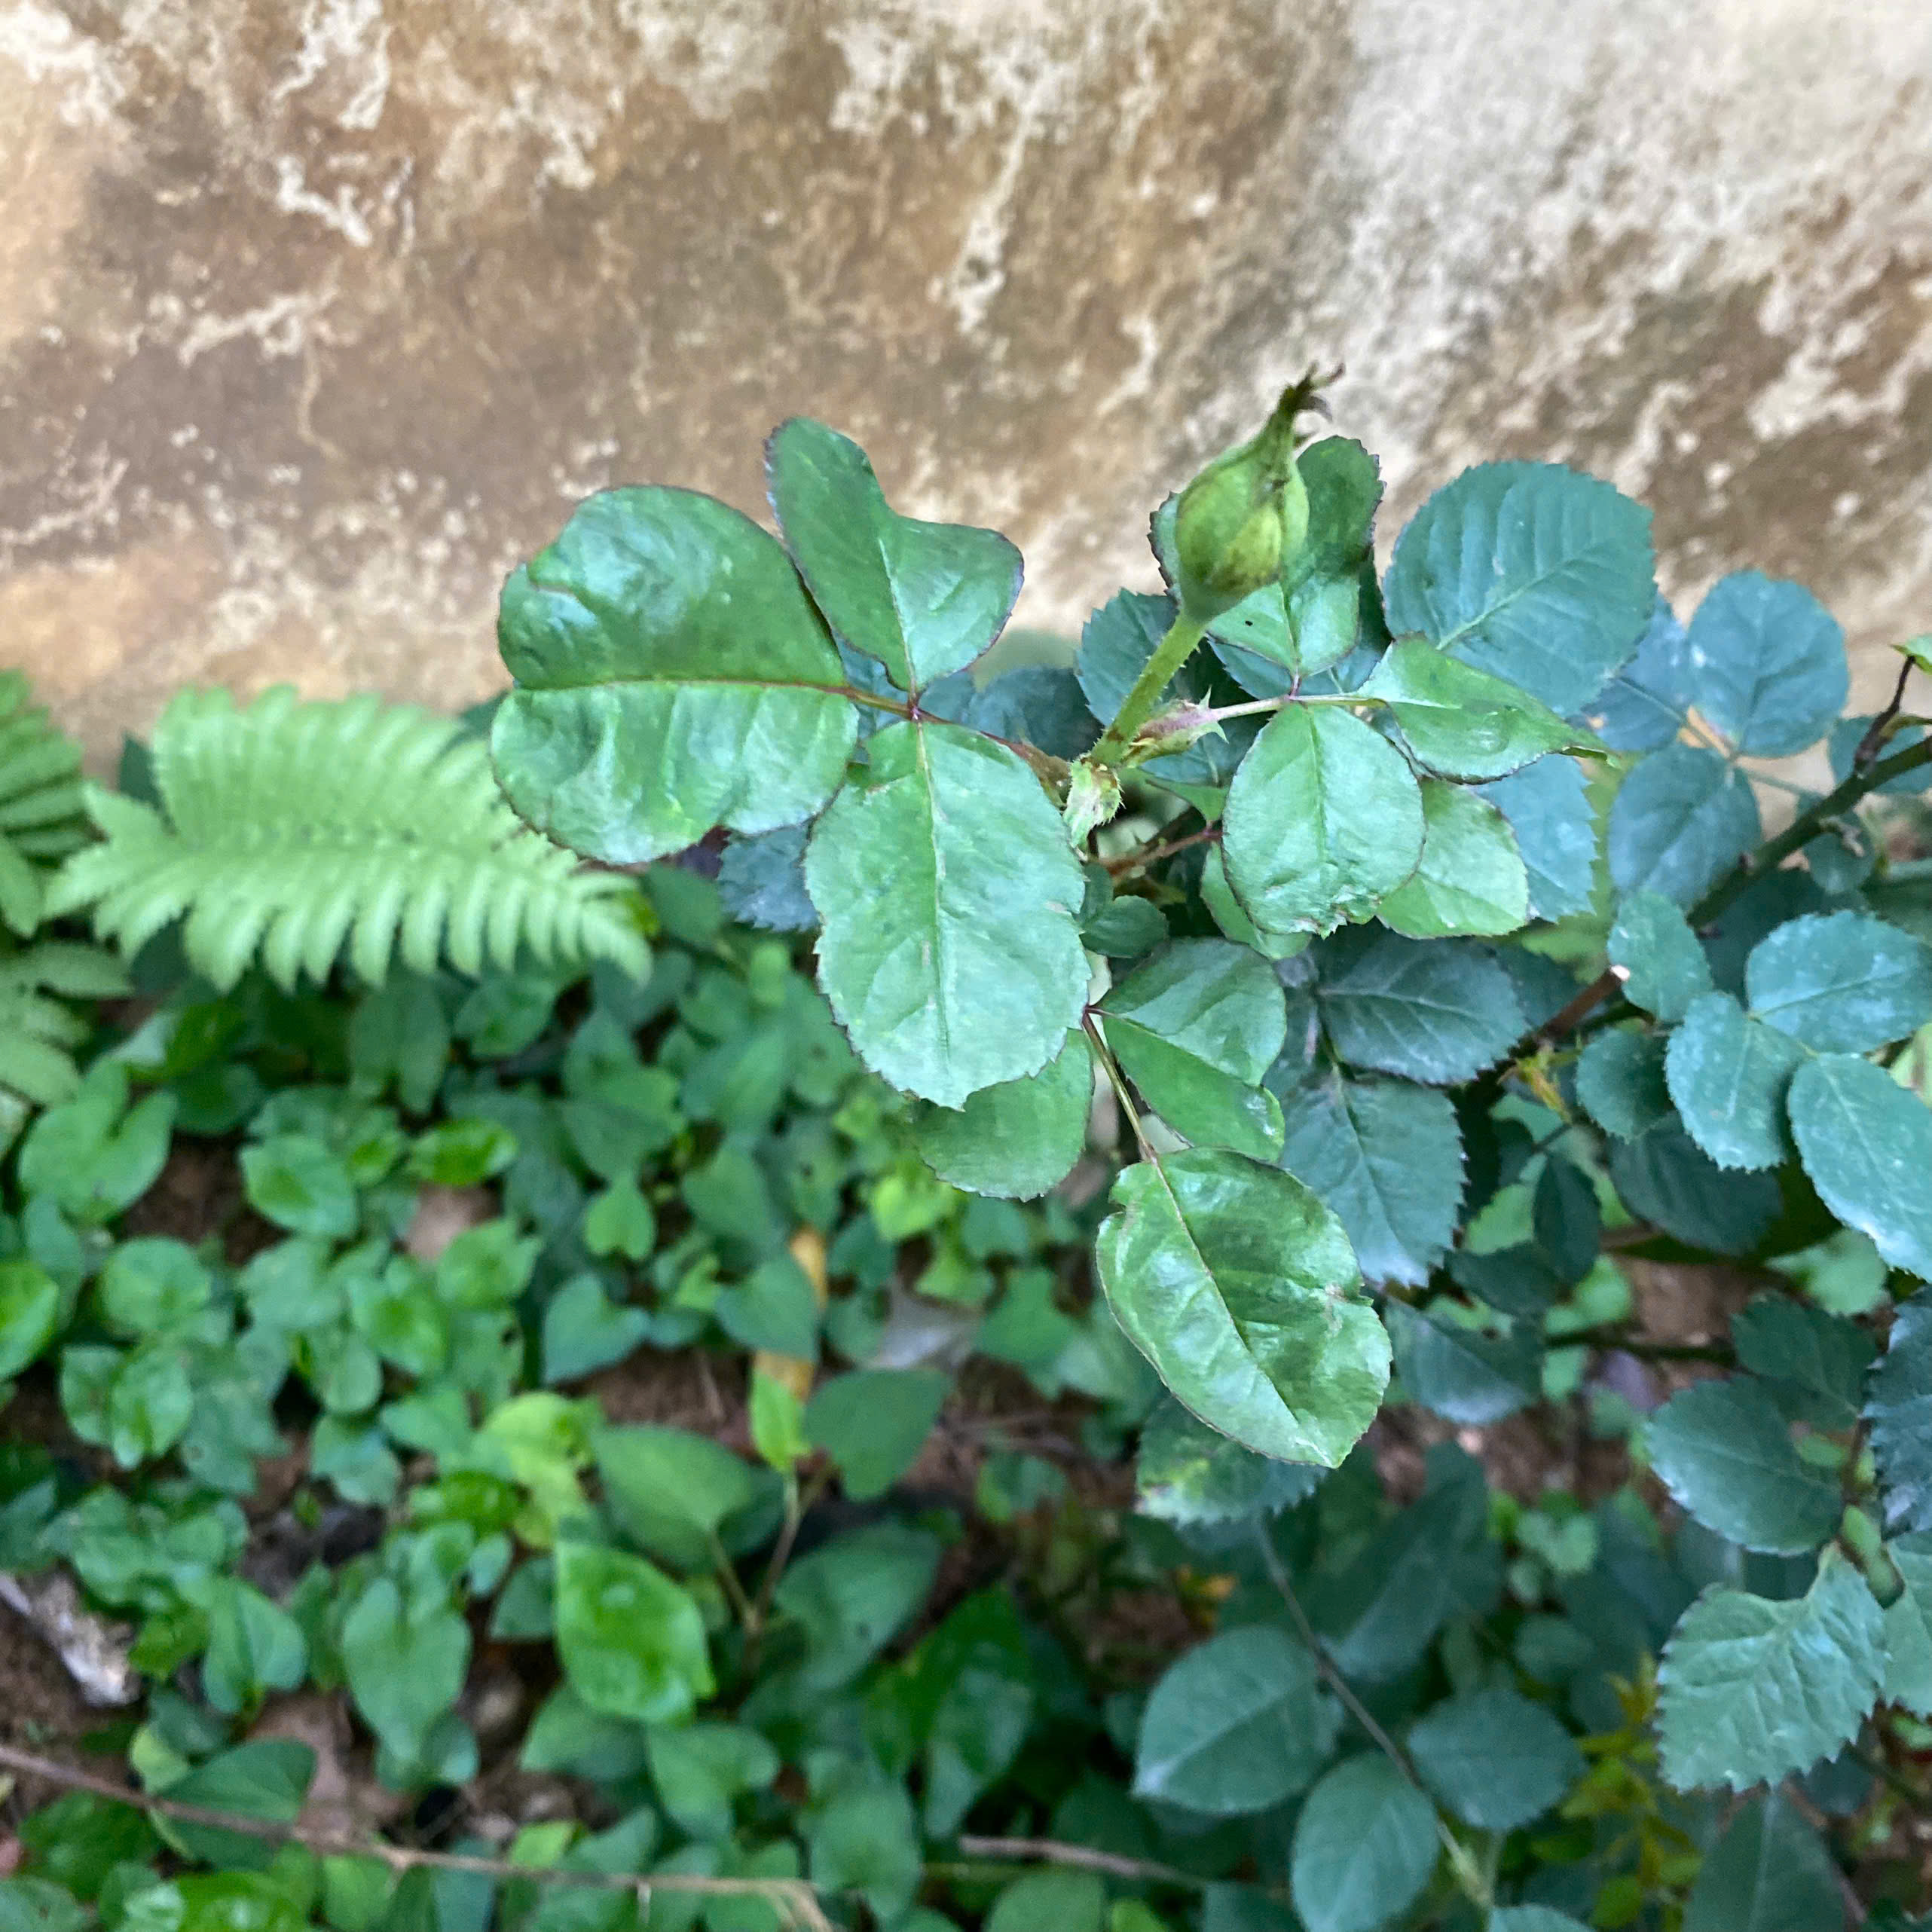hoa_thuoc_duoc: (416, 352, 1932, 1668)
